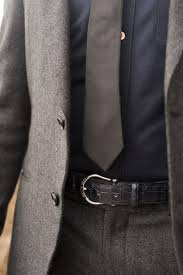F_belt: (49, 164, 179, 215)
F_tie: (80, 3, 138, 169)
